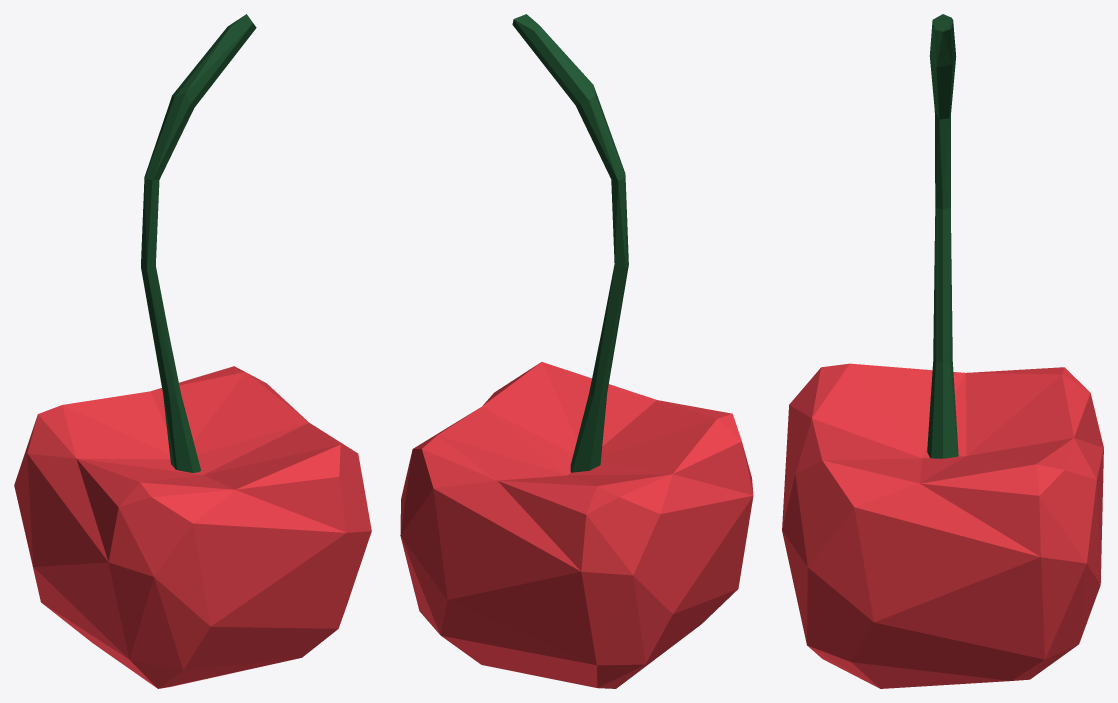
Rendered from cereja.glb.
3 renders of one model, left to right at view 1: azimuth 30°, elevation 25°; view 2: azimuth 150°, elevation 25°; view 3: azimuth 270°, elevation 25°, orthographic. The views are drawn at different scales.
Visible parts, largest first — view 1: cereja.001, Vert.001; view 2: cereja.001, Vert.001; view 3: cereja.001, Vert.001.
Part boxes in pixels (x1=…): cereja.001: x1=14, y1=366, x2=371, y2=688; Vert.001: x1=141, y1=14, x2=256, y2=472; cereja.001: x1=400, y1=362, x2=753, y2=688; Vert.001: x1=512, y1=14, x2=628, y2=472; cereja.001: x1=782, y1=363, x2=1103, y2=688; Vert.001: x1=927, y1=14, x2=958, y2=458.
Size of the model in its own units: 1.53 by 3.48 by 1.53.
